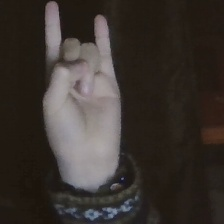U: (37, 1, 129, 167)
